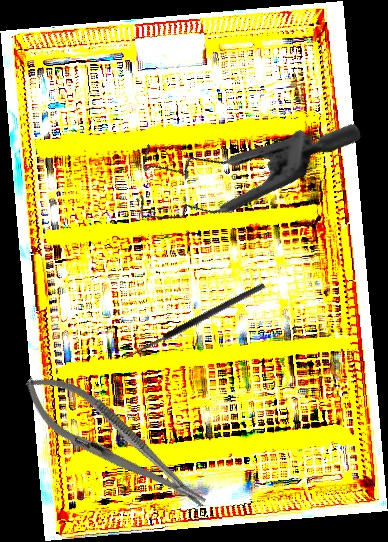Hook Surgical: (122, 281, 270, 370)
Needle Holder: (11, 358, 219, 528)
Speculum: (107, 30, 366, 292)
